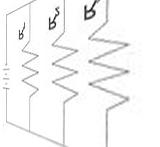resistor: (87, 12, 137, 116), (52, 25, 75, 107), (22, 35, 42, 97)
